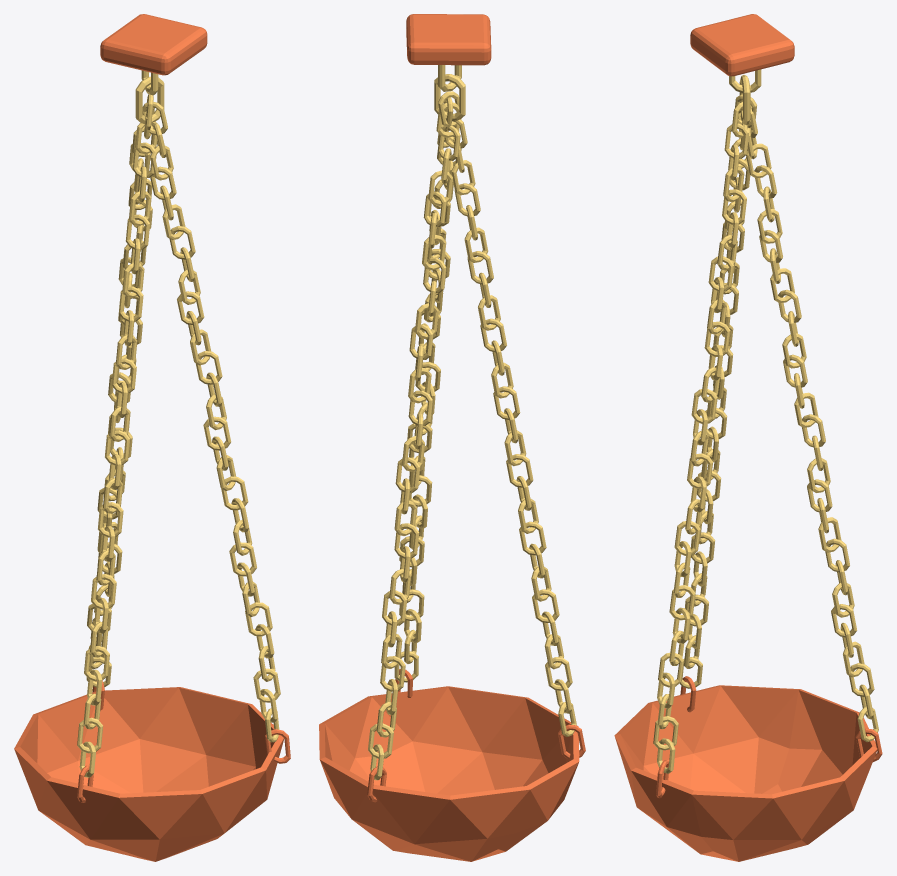
Rendered from torchereCastel_002_grp.fbx.
The picture shows the model from 3 angles, left to right: view 1: azimuth 30°, elevation 25°; view 2: azimuth 150°, elevation 25°; view 3: azimuth 270°, elevation 25°; orthographic projection.
Parts seen in each view (by area): view 1: torchereCastel_002_grp; view 2: torchereCastel_002_grp; view 3: torchereCastel_002_grp.
Boxes of the visible parts, x1,y1,x2,y2 form: torchereCastel_002_grp: [14, 14, 290, 861]; torchereCastel_002_grp: [319, 14, 585, 861]; torchereCastel_002_grp: [614, 14, 882, 861].
Bounding box in the file's own units: 30 × 100 × 30.
